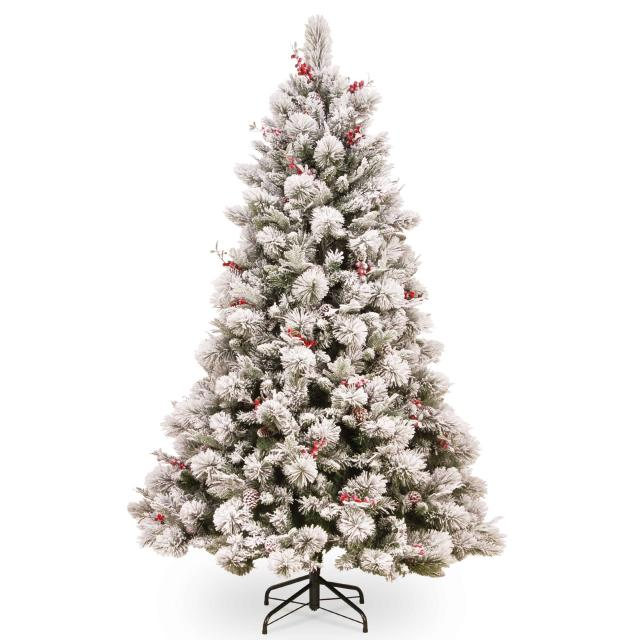Christmas-tree: (95, 0, 574, 576)
